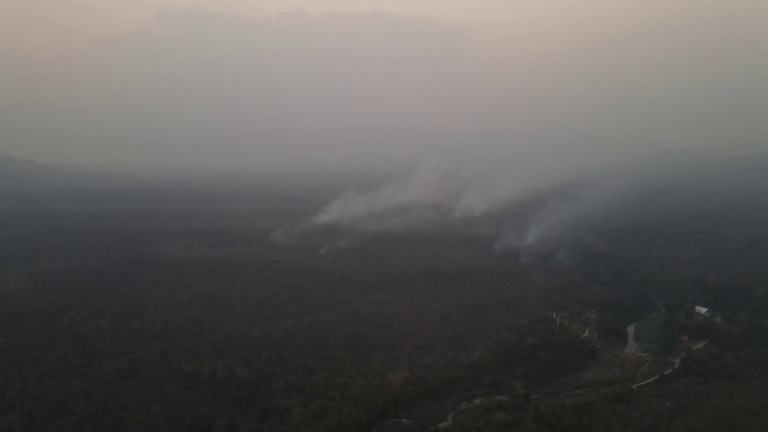smoke: (304, 136, 578, 240)
